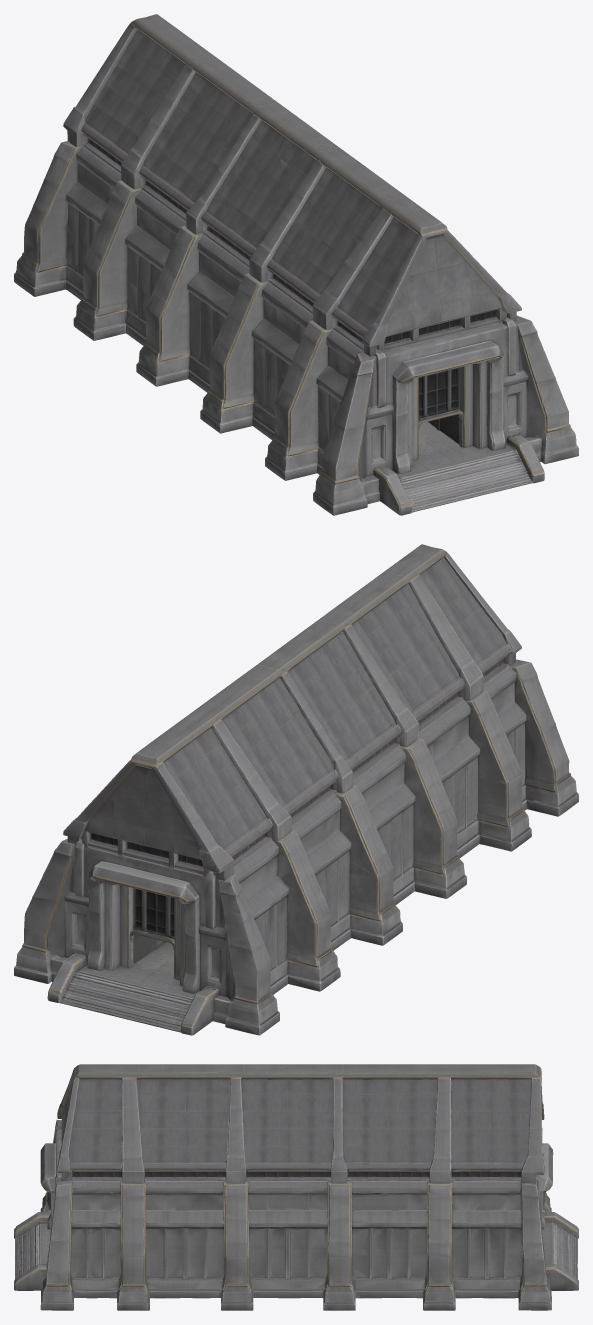
Rendered from imperial_temple_hall_of_heroes.glb.
3 views of the same model, one above another, from view 1: azimuth 30°, elevation 25°; view 2: azimuth 150°, elevation 25°; view 3: azimuth 270°, elevation 25° (orthographic). The views are drawn at different scales.
Visible parts, largest first — view 1: mesh_node; view 2: mesh_node; view 3: mesh_node.
Boxes of the visible parts, box(x1,y1,x2,y2) form: mesh_node: box(14, 14, 578, 515); mesh_node: box(14, 544, 578, 1035); mesh_node: box(14, 1064, 578, 1310).
Bounding box in the file's own units: 19.15 × 18.04 × 47.42.
Materials: 1 (1 with a texture image).
